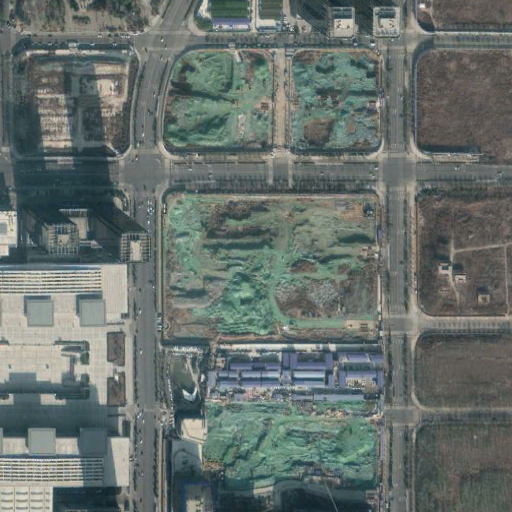cw: (161, 194, 379, 339), (205, 397, 380, 494), (166, 49, 279, 155), (288, 46, 381, 154)
